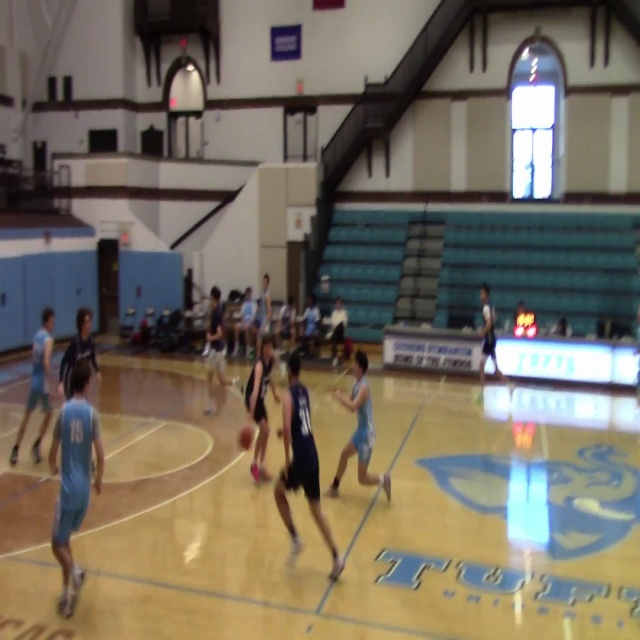Basketball: (238, 425, 254, 450)
